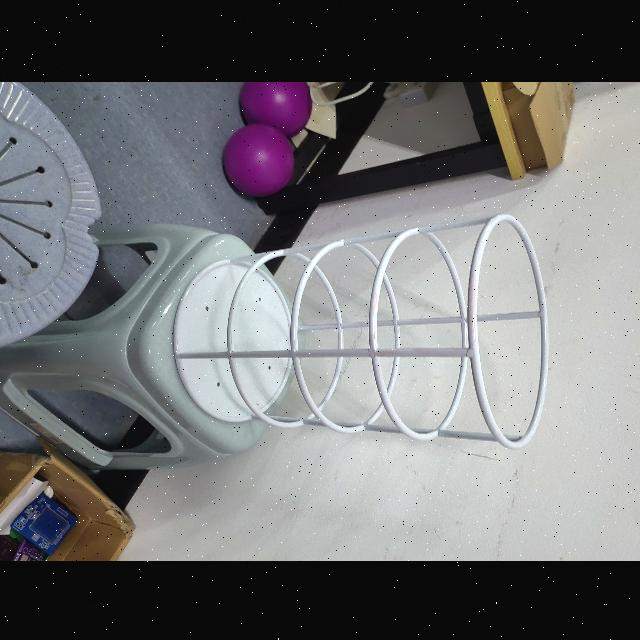S: (167, 208, 553, 452)
